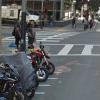Motorcycle: (18, 39, 59, 81)
